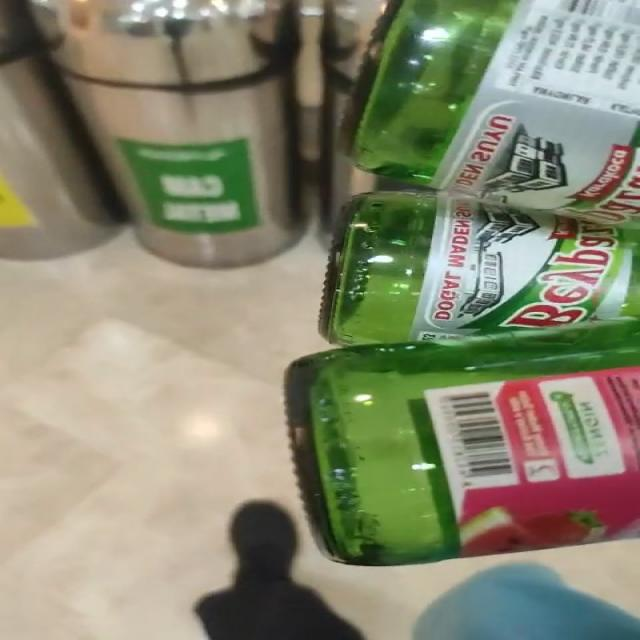glass: (285, 0, 640, 566)
